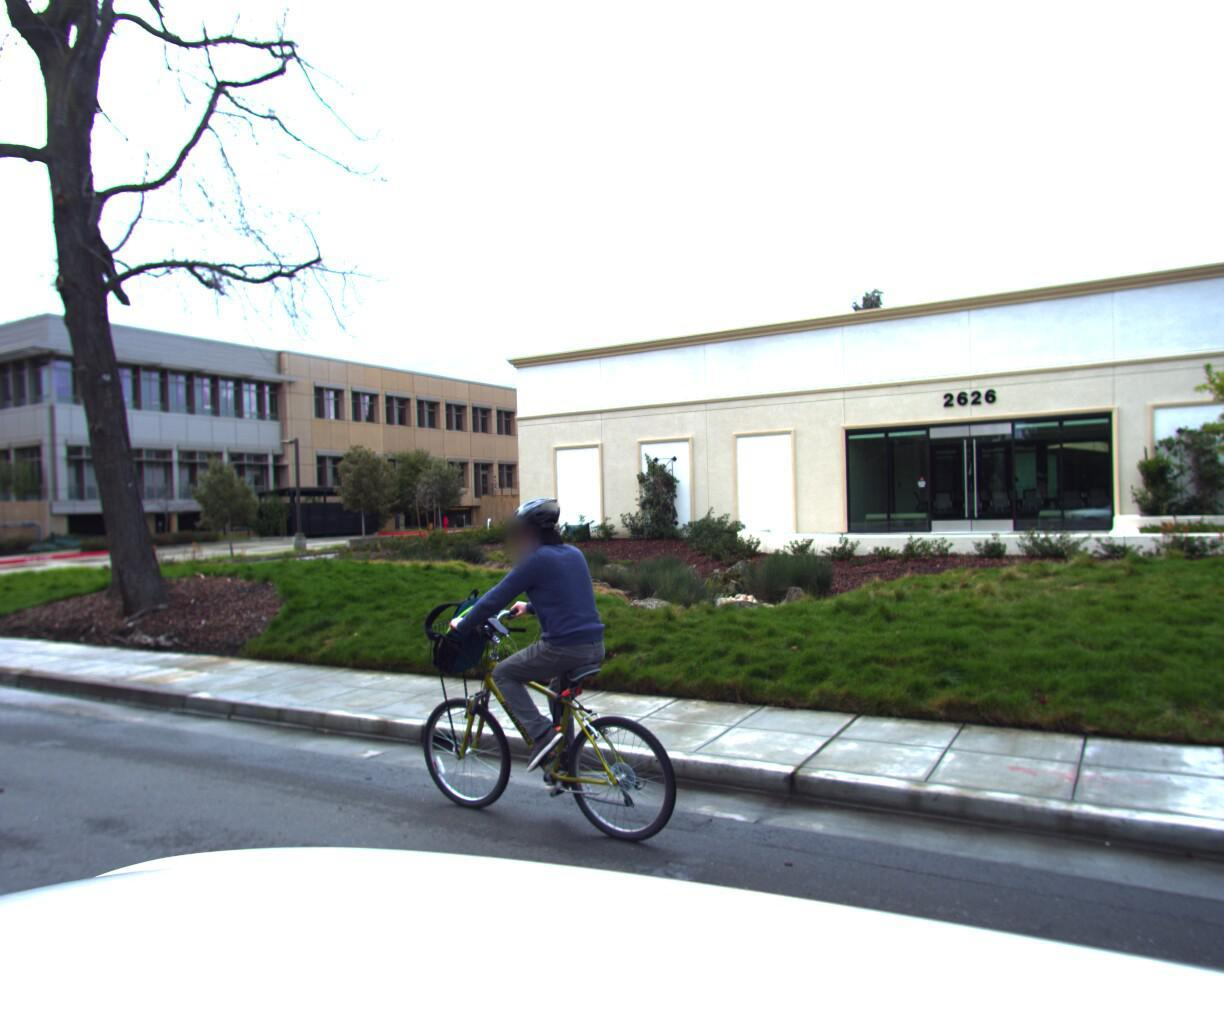bicycle: (334, 475, 697, 885)
